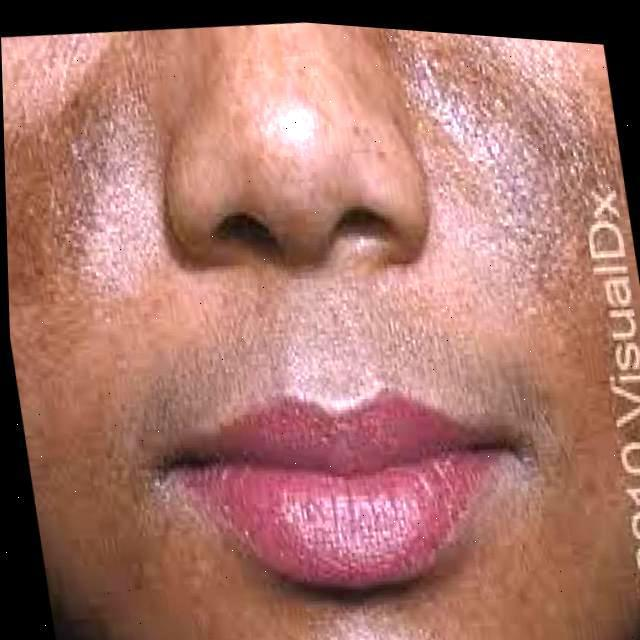pigmentation: (437, 45, 640, 256), (11, 85, 180, 317)
